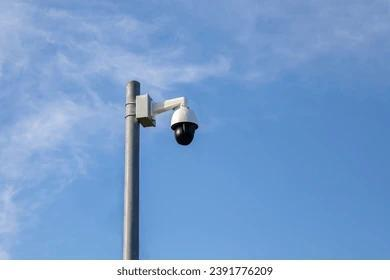360-Cam: (168, 104, 199, 148)
